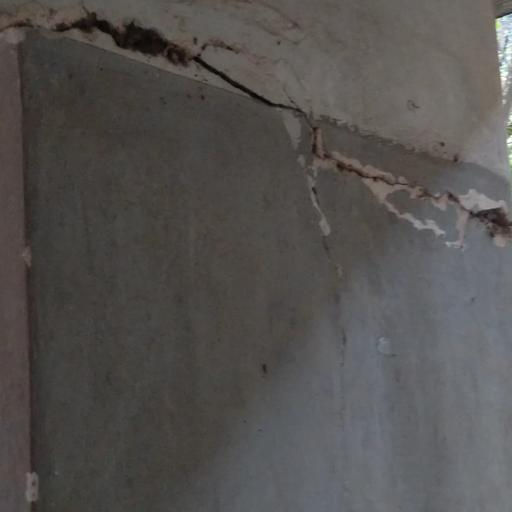major_crack: (7, 9, 512, 243)
